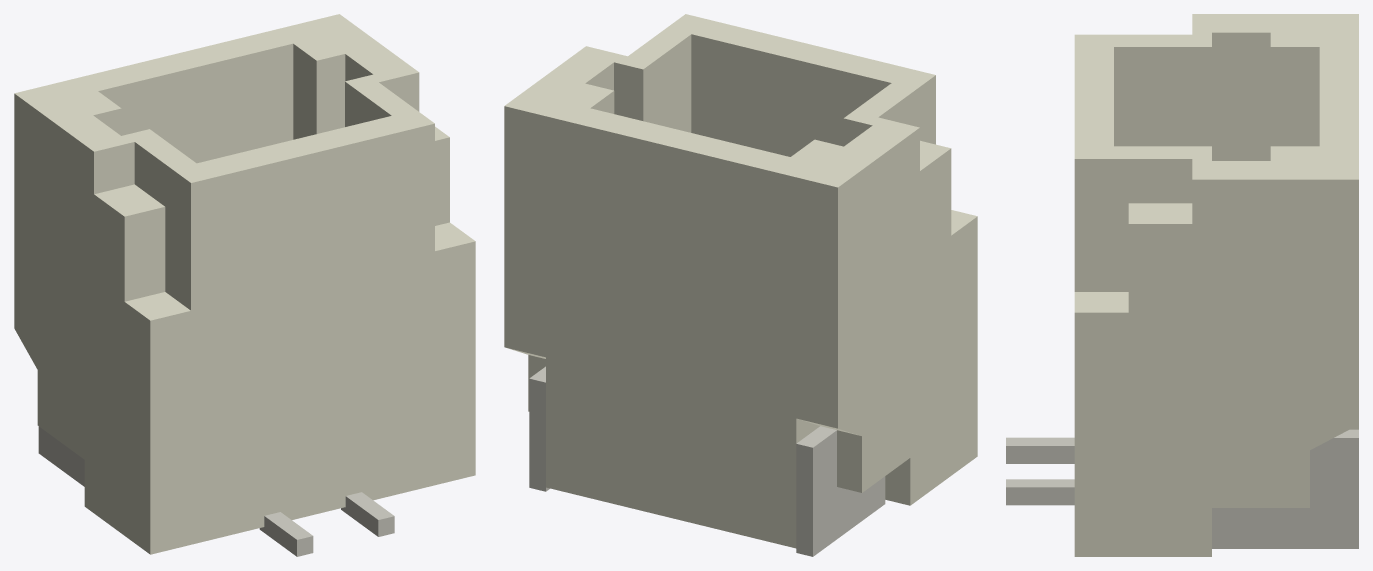
The model's file is JST_SH_BM02B-SRSS-TB_1x02-1MP_P1.00mm_Vertical.normalized.glb.
3 views of the same model, side by side, from view 1: azimuth 30°, elevation 25°; view 2: azimuth 150°, elevation 25°; view 3: azimuth 270°, elevation 25° (orthographic). The views are drawn at different scales.
Parts seen in each view (by area): view 1: PACKAGE_CANDIDATE__JST_SH_BM02B-SRSS-TB_1x02-1MP_P1.00mm_Ver; view 2: PACKAGE_CANDIDATE__JST_SH_BM02B-SRSS-TB_1x02-1MP_P1.00mm_Ver; view 3: PACKAGE_CANDIDATE__JST_SH_BM02B-SRSS-TB_1x02-1MP_P1.00mm_Ver.
Part boxes in pixels (<box>): PACKAGE_CANDIDATE__JST_SH_BM02B-SRSS-TB_1x02-1MP_P1.00mm_Ver: <box>14,14,475,556</box>; PACKAGE_CANDIDATE__JST_SH_BM02B-SRSS-TB_1x02-1MP_P1.00mm_Ver: <box>504,14,977,556</box>; PACKAGE_CANDIDATE__JST_SH_BM02B-SRSS-TB_1x02-1MP_P1.00mm_Ver: <box>1006,14,1358,556</box>.
Bounding box in the file's own units: 0.004 × 0.00432 × 0.0036.
